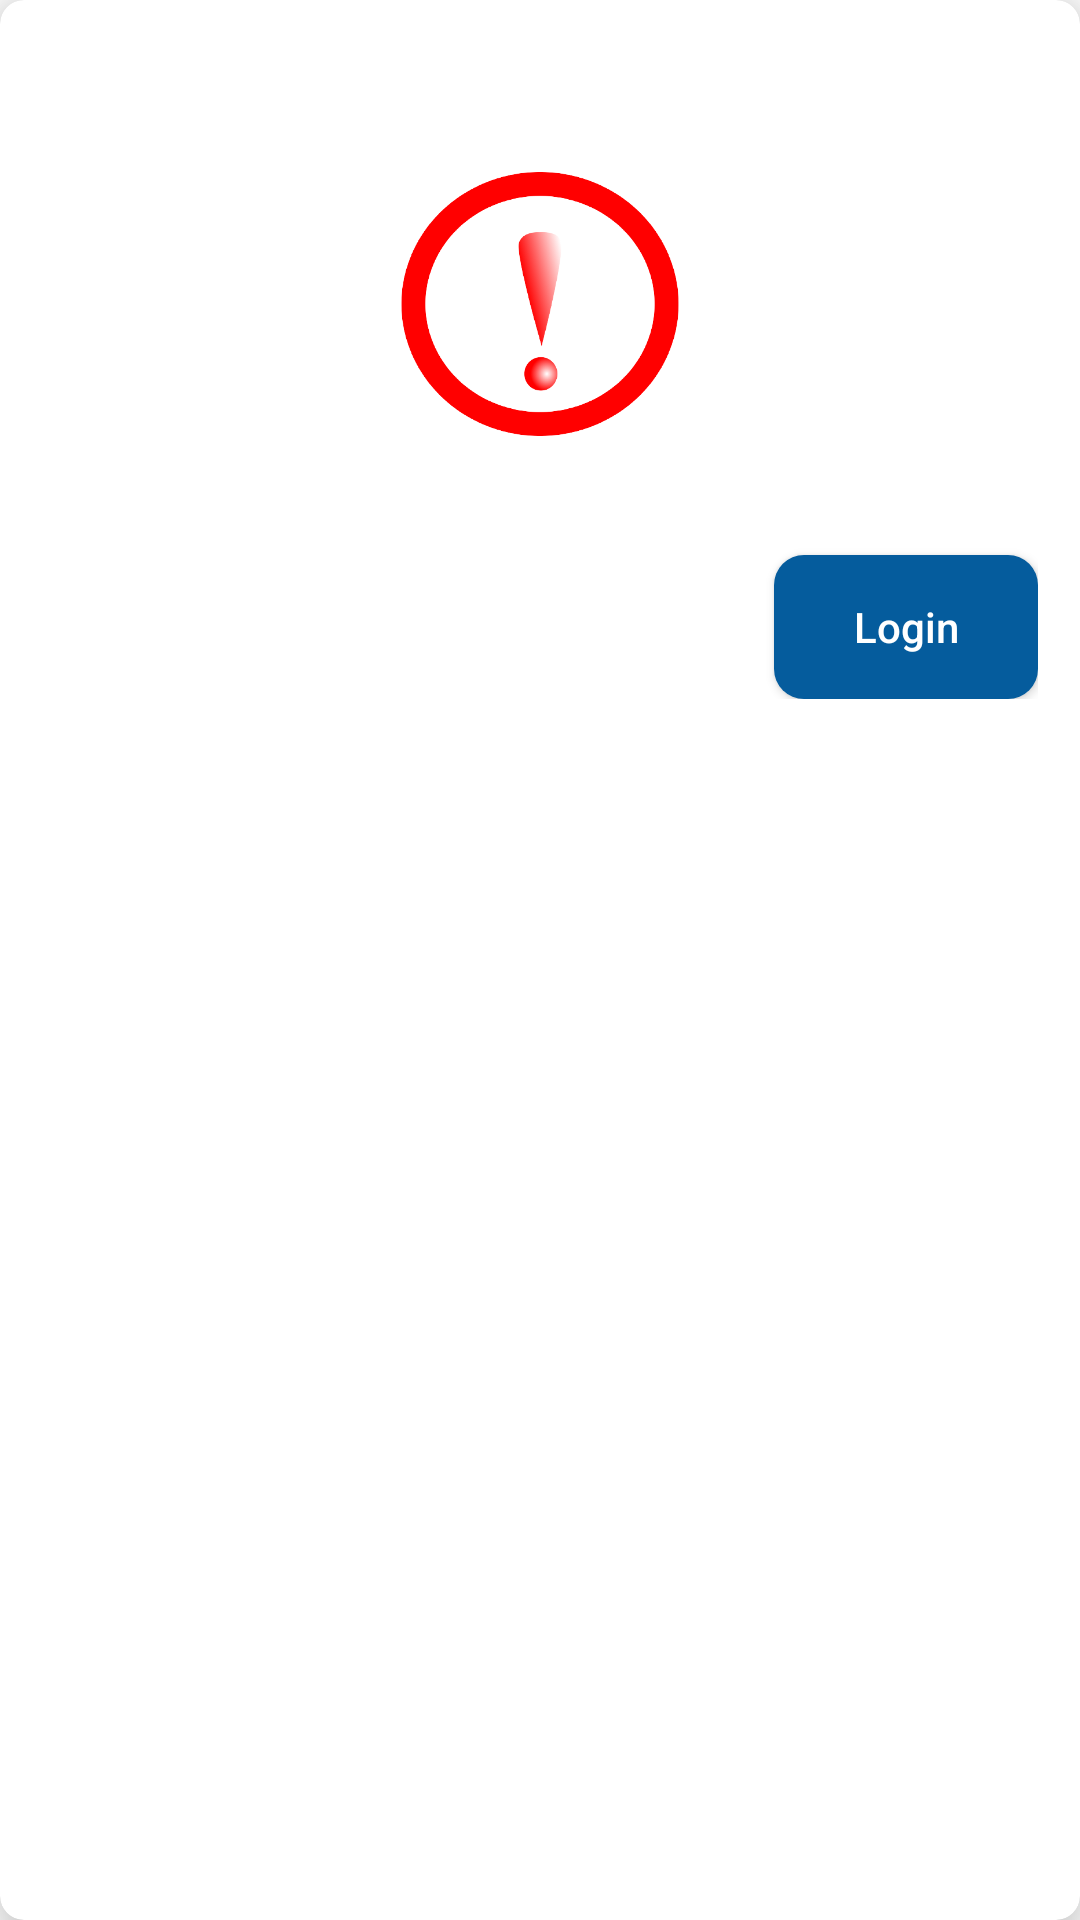

Icons on this 1080 × 1920 Android screen, each with its box as (x1=x1, y1=y1, x2=x2, y2=y2):
error: (x1=401, y1=172, x2=679, y2=436)
